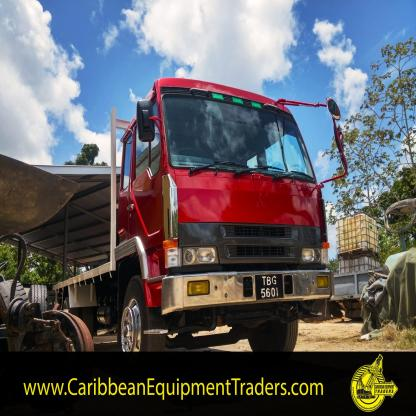truck: (44, 77, 350, 354)
